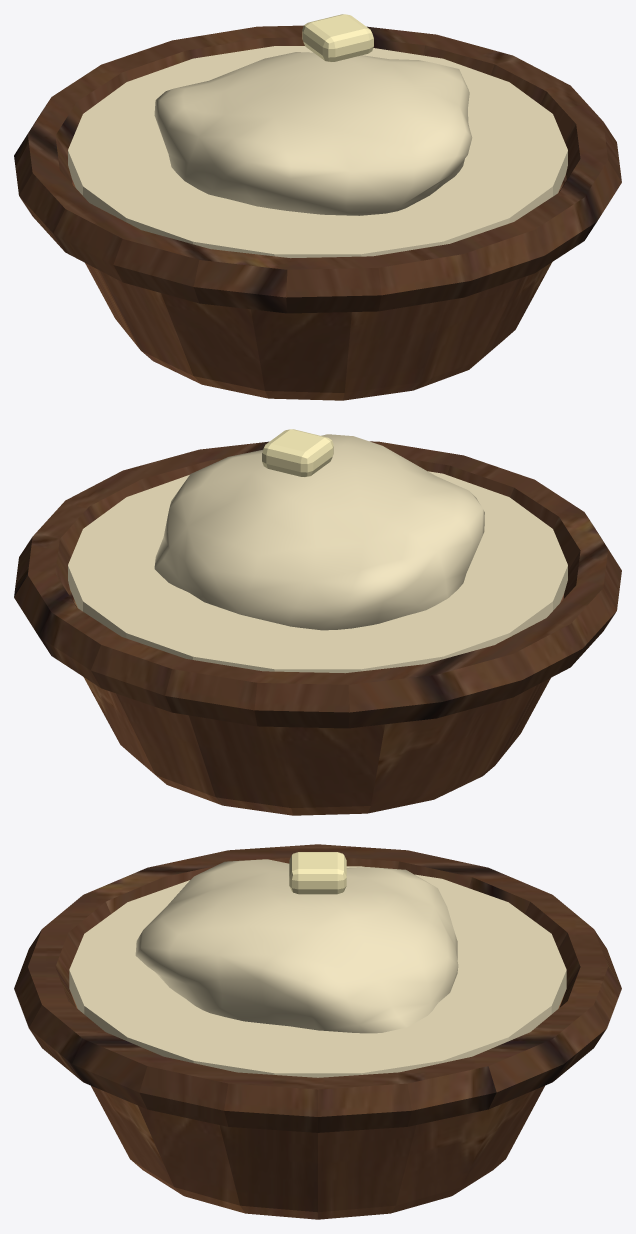
File: dish_tuber_mash.glb
3 views of the same model, one above another, from view 1: azimuth 30°, elevation 25°; view 2: azimuth 150°, elevation 25°; view 3: azimuth 270°, elevation 25° (orthographic).
Visible parts, largest first — view 1: model; view 2: model; view 3: model.
Boxes of the visible parts, box(x1,y1,x2,y2) form: model: box(14, 14, 621, 400); model: box(14, 429, 621, 815); model: box(14, 844, 621, 1219).
Size of the model in its own units: 0.264 by 0.141 by 0.264.
5 materials, 2 textured.
